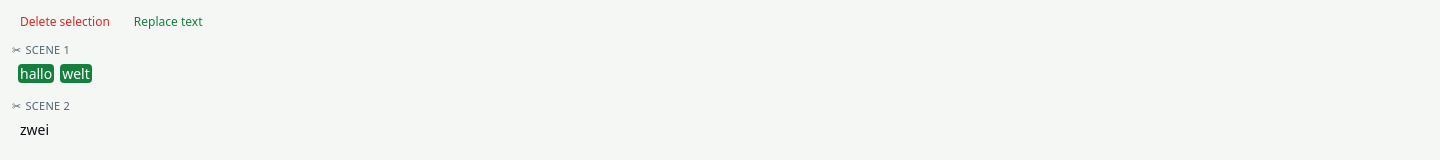
it: ContinuousTranscript › 'Replace text' opens an inline input prefilled with the selected words' text
Step 1. Click the button "Replace text" → point(168, 22), box [126, 12, 210, 32]
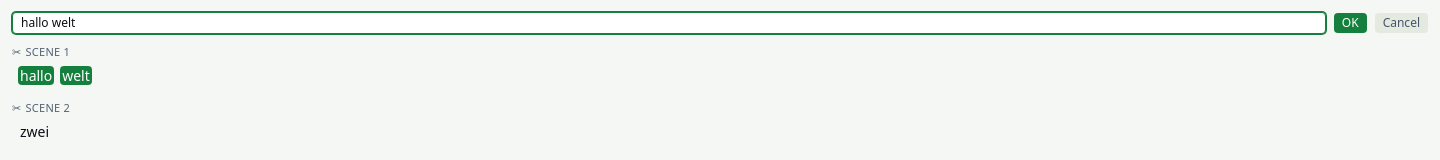
Check: the field named "new text" holds "hallo welt", box [12, 12, 1326, 34]
